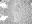person: (1, 14, 7, 21), (1, 1, 6, 5), (14, 1, 18, 5)
